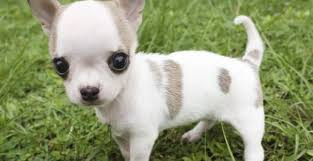Chihuahua: (24, 1, 280, 161)
